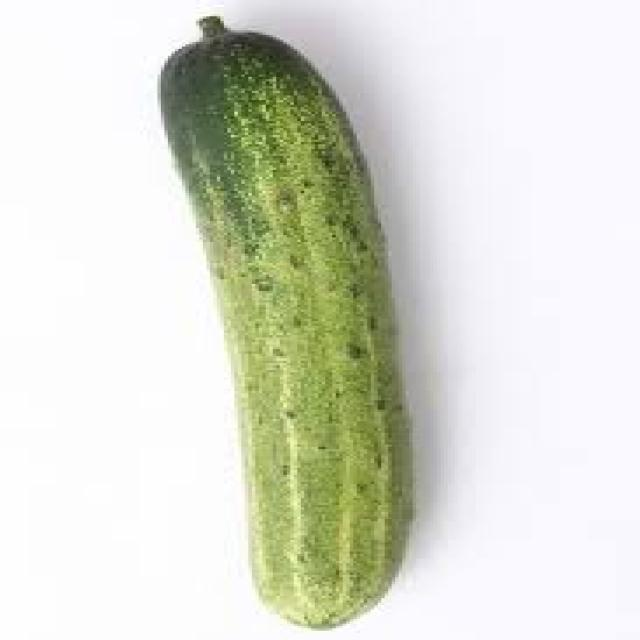cucumber: (157, 30, 409, 627)
